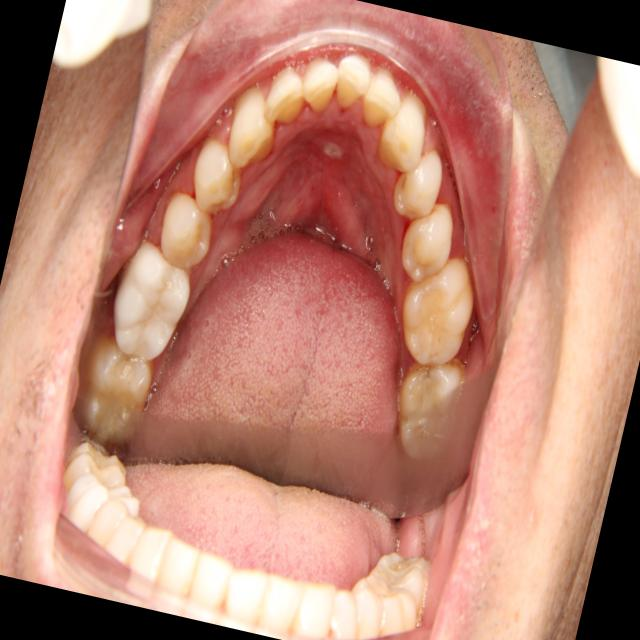tooth: (96, 230, 206, 374), (59, 323, 169, 459), (382, 240, 491, 373), (380, 340, 477, 473), (215, 75, 293, 180), (368, 76, 441, 181), (148, 184, 226, 280), (392, 188, 464, 292), (179, 130, 257, 223), (384, 133, 454, 229), (258, 58, 315, 137), (353, 62, 410, 136), (324, 45, 378, 119), (290, 50, 346, 120)
